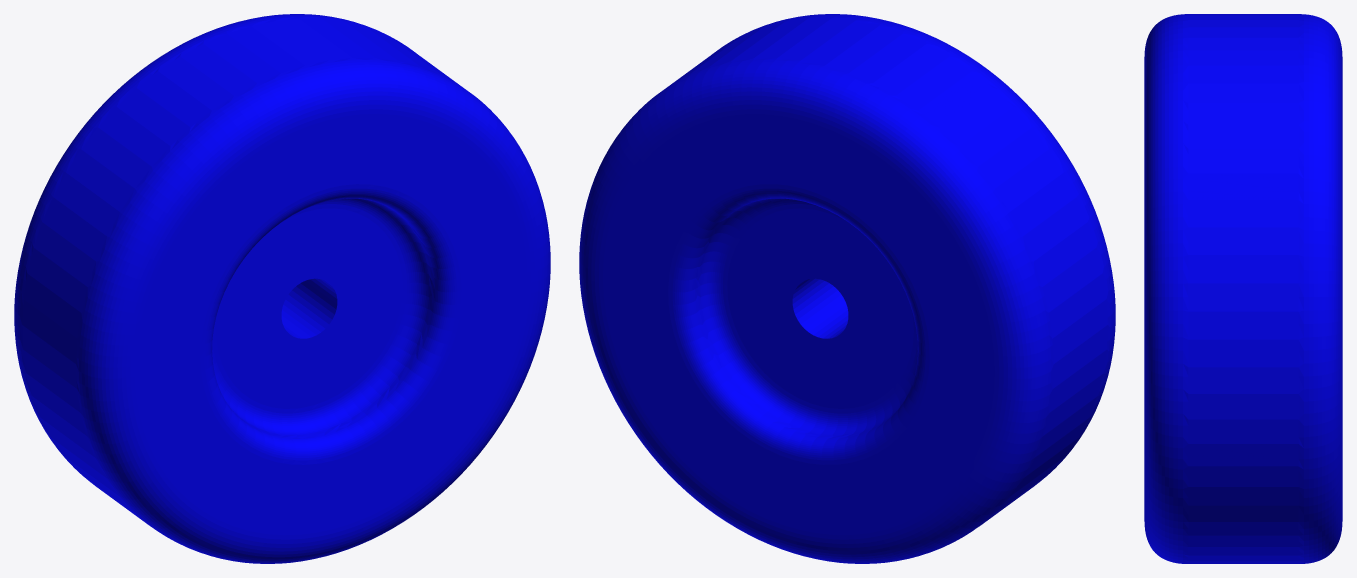
Rendered from left_wheel_new.dae.
The picture shows the model from 3 angles, left to right: view 1: azimuth 30°, elevation 25°; view 2: azimuth 150°, elevation 25°; view 3: azimuth 270°, elevation 25°; orthographic projection. The views are drawn at different scales.
Visible parts, largest first — view 1: Caffeine Full - Side wheels-1; view 2: Caffeine Full - Side wheels-1; view 3: Caffeine Full - Side wheels-1.
Part boxes in pixels (x1,y1,x2,y2): Caffeine Full - Side wheels-1: (14, 14, 550, 563); Caffeine Full - Side wheels-1: (579, 14, 1115, 563); Caffeine Full - Side wheels-1: (1144, 14, 1342, 563).
Size of the model in its own units: 0.2499 by 0.09 by 0.2499.
